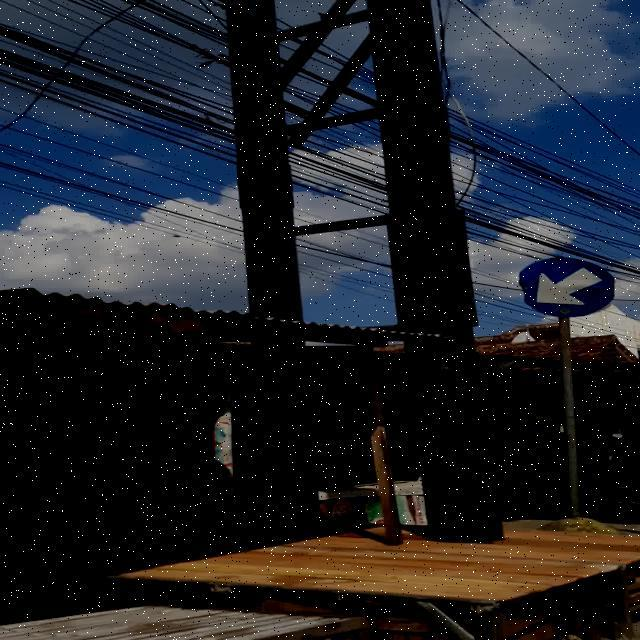Lajur Kiri: (520, 258, 614, 316)
